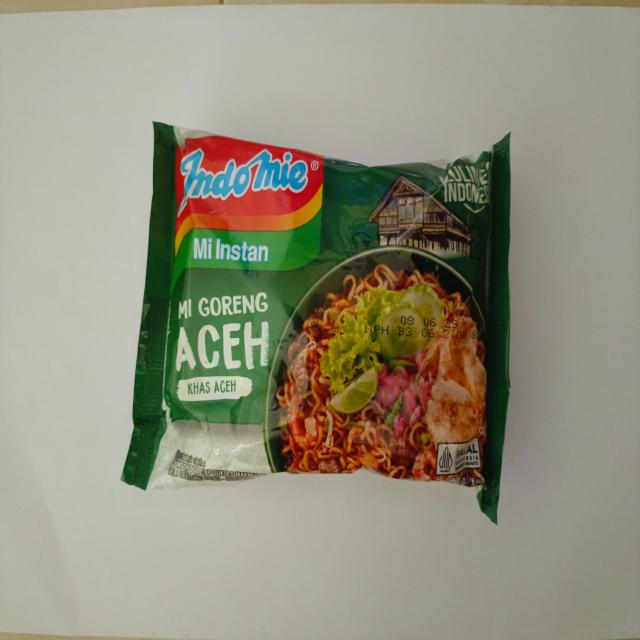gery-salut-coconut: (119, 117, 510, 528)
